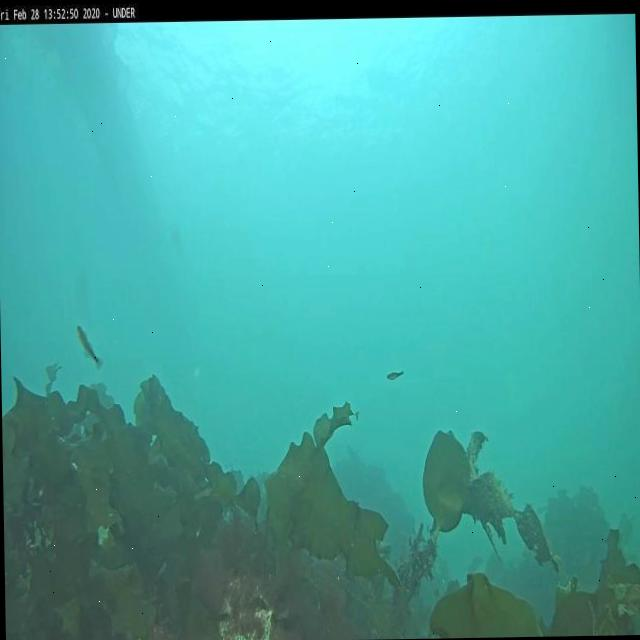fish: (76, 324, 102, 368), (386, 366, 403, 381)
